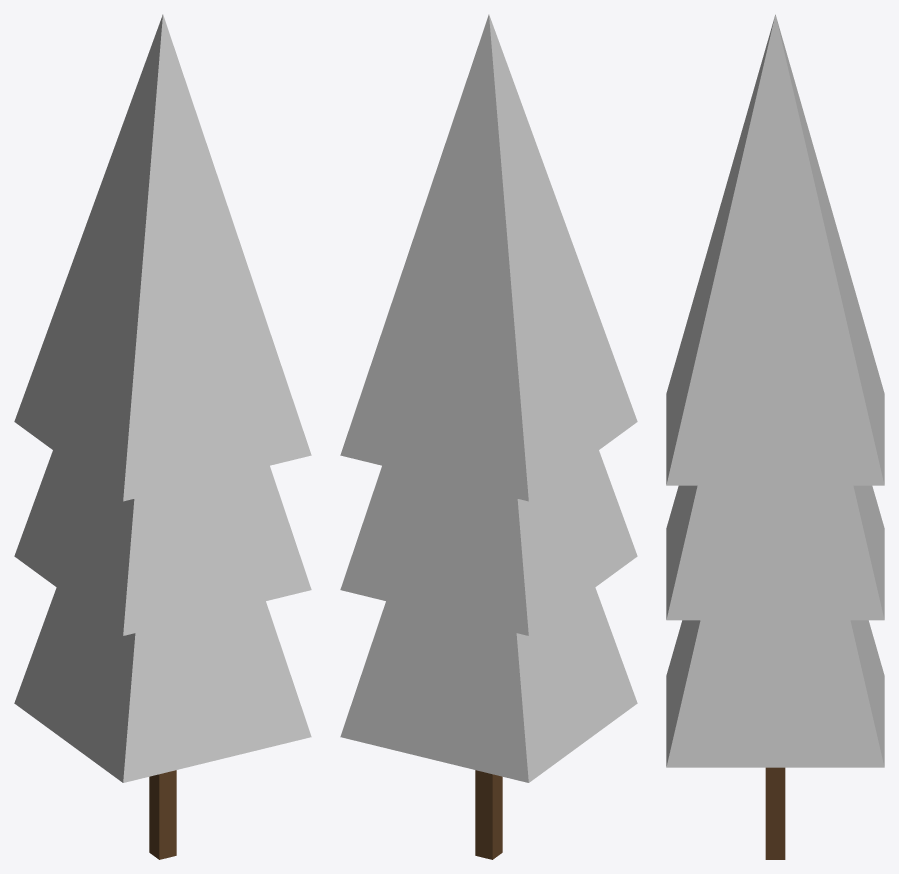
File: tree14.fbx
3 renders of one model, left to right at view 1: azimuth 30°, elevation 25°; view 2: azimuth 150°, elevation 25°; view 3: azimuth 270°, elevation 25°, orthographic.
Visible parts, largest first — view 1: Cube.024; view 2: Cube.024; view 3: Cube.024.
Part boxes in pixels (left/top/right/bottom): Cube.024: left=14, top=14, right=311, bottom=859; Cube.024: left=340, top=14, right=637, bottom=859; Cube.024: left=666, top=14, right=884, bottom=859.
Bounding box in the file's own units: 166 × 706 × 166.
